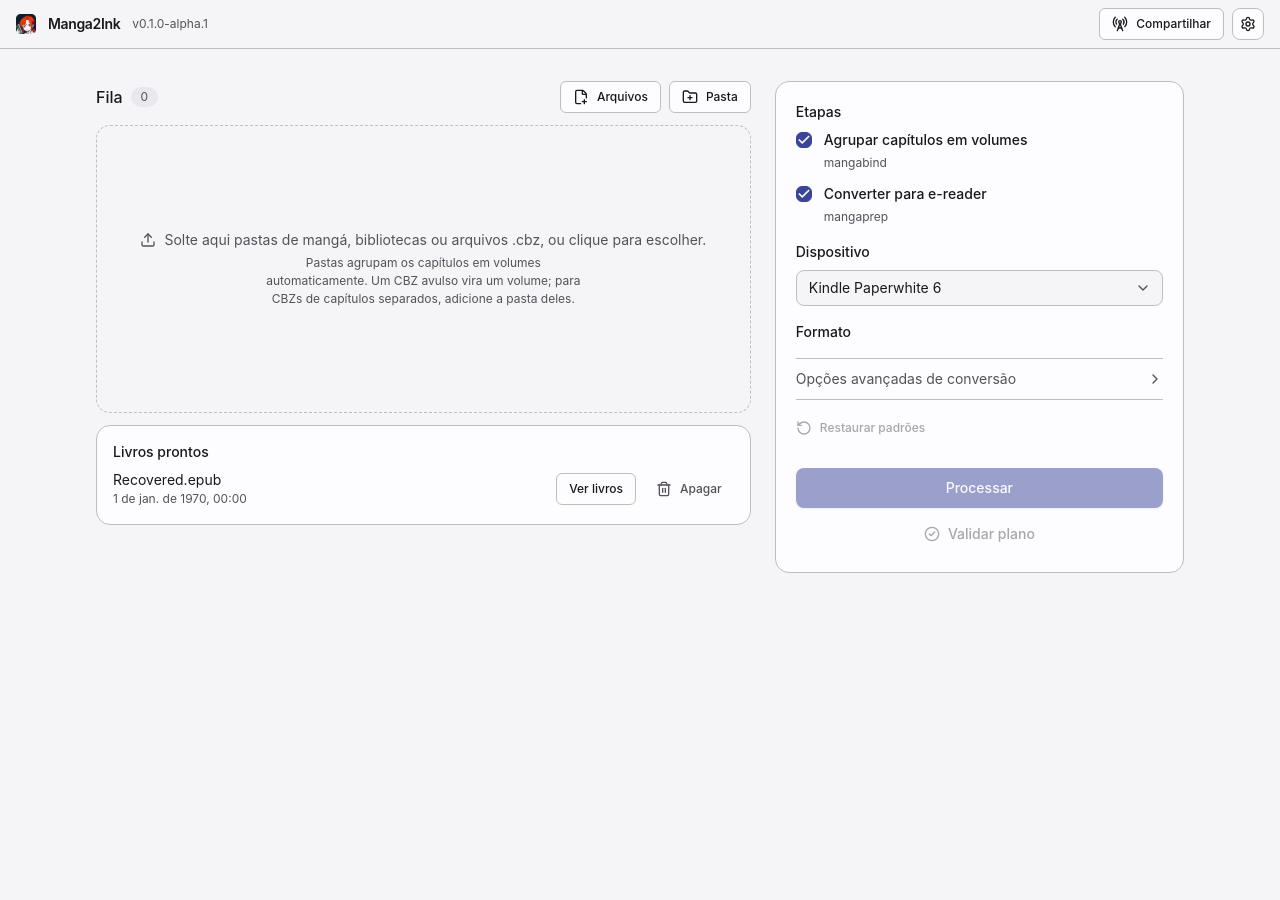
Test: the Share button and the card of the results, in Portuguese › opens the panel from the books of an earlier conversion, naming them in the language
Click the button with aria-label "Ver os livros de Recovered.epub": (596, 489) left=556, top=473, right=636, bottom=505
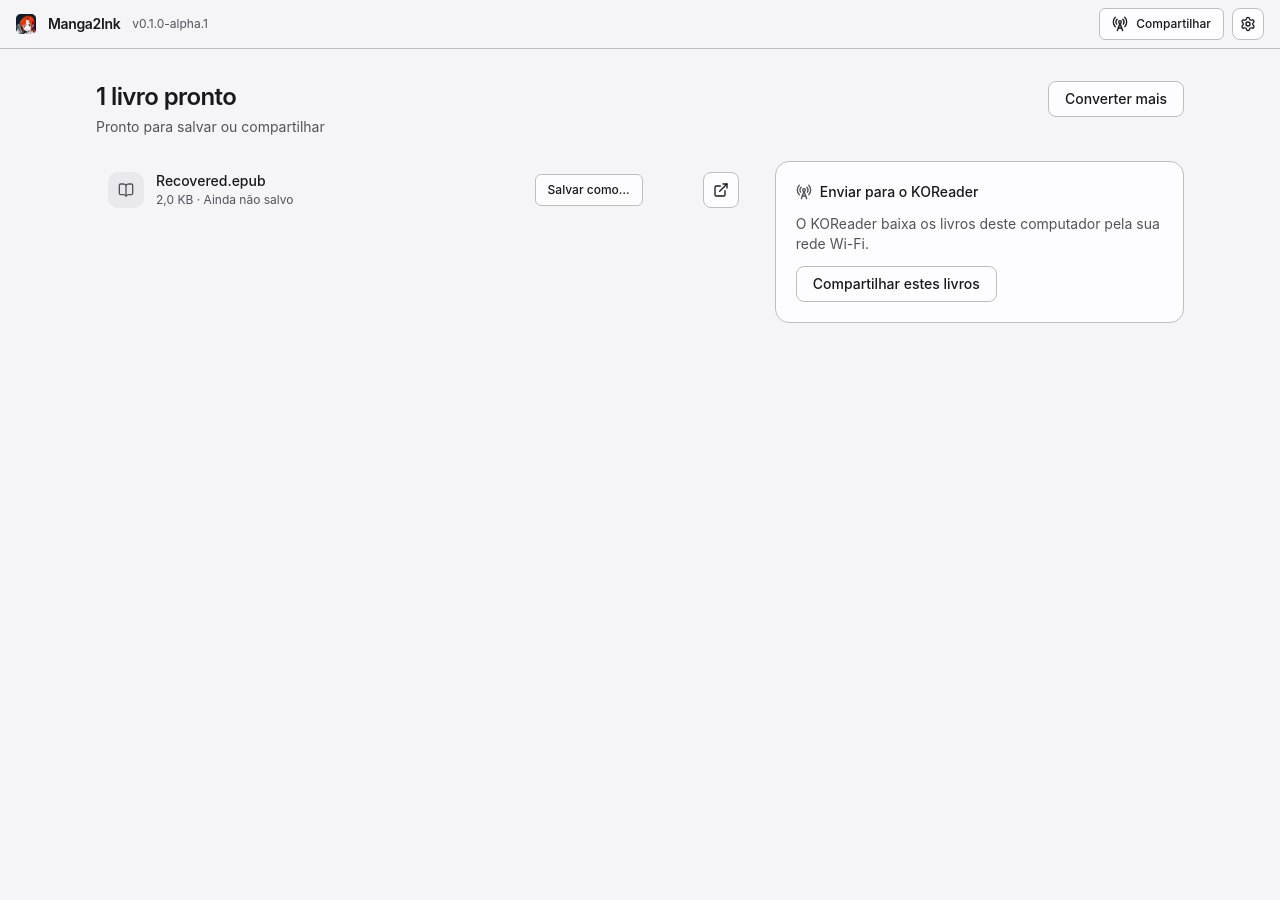
Click the button "Compartilhar estes livros": (896, 284) left=796, top=266, right=997, bottom=302
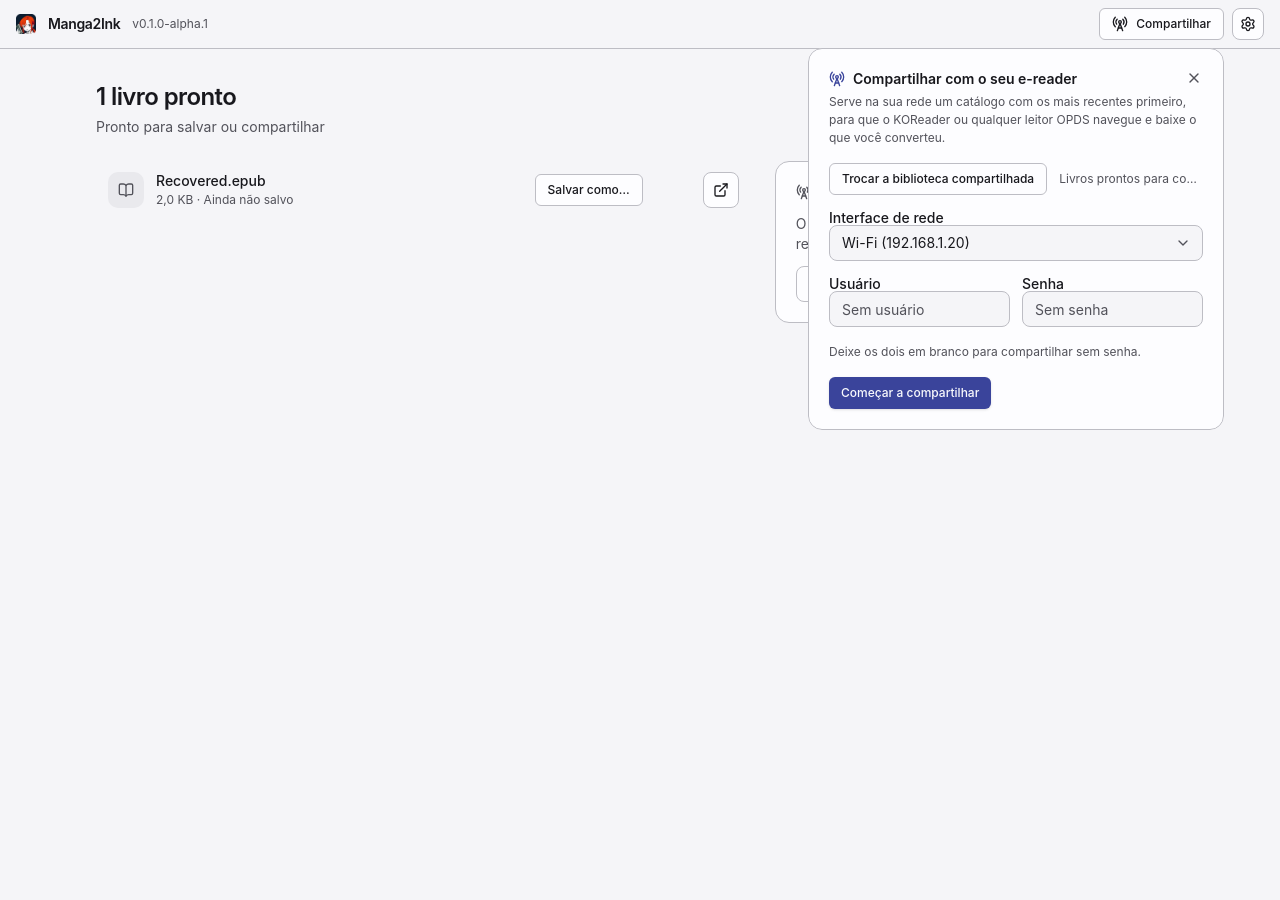
Expected: the dialog "Compartilhar com o seu e-reader" shows "Livros prontos para compartilhar", left=1059, top=171, right=1244, bottom=186
